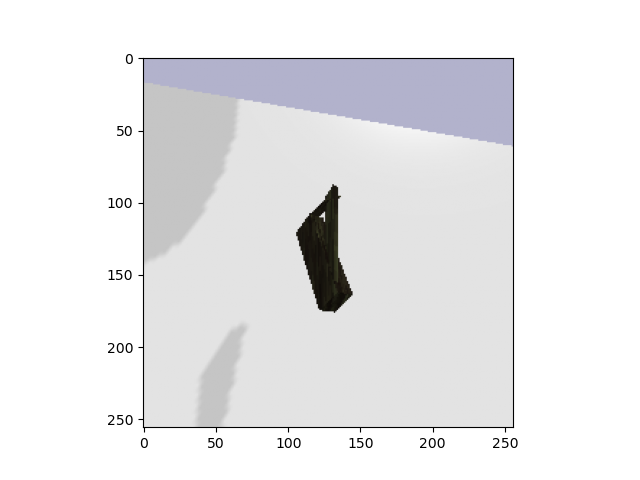v249b387_109: (277, 176, 372, 332)
